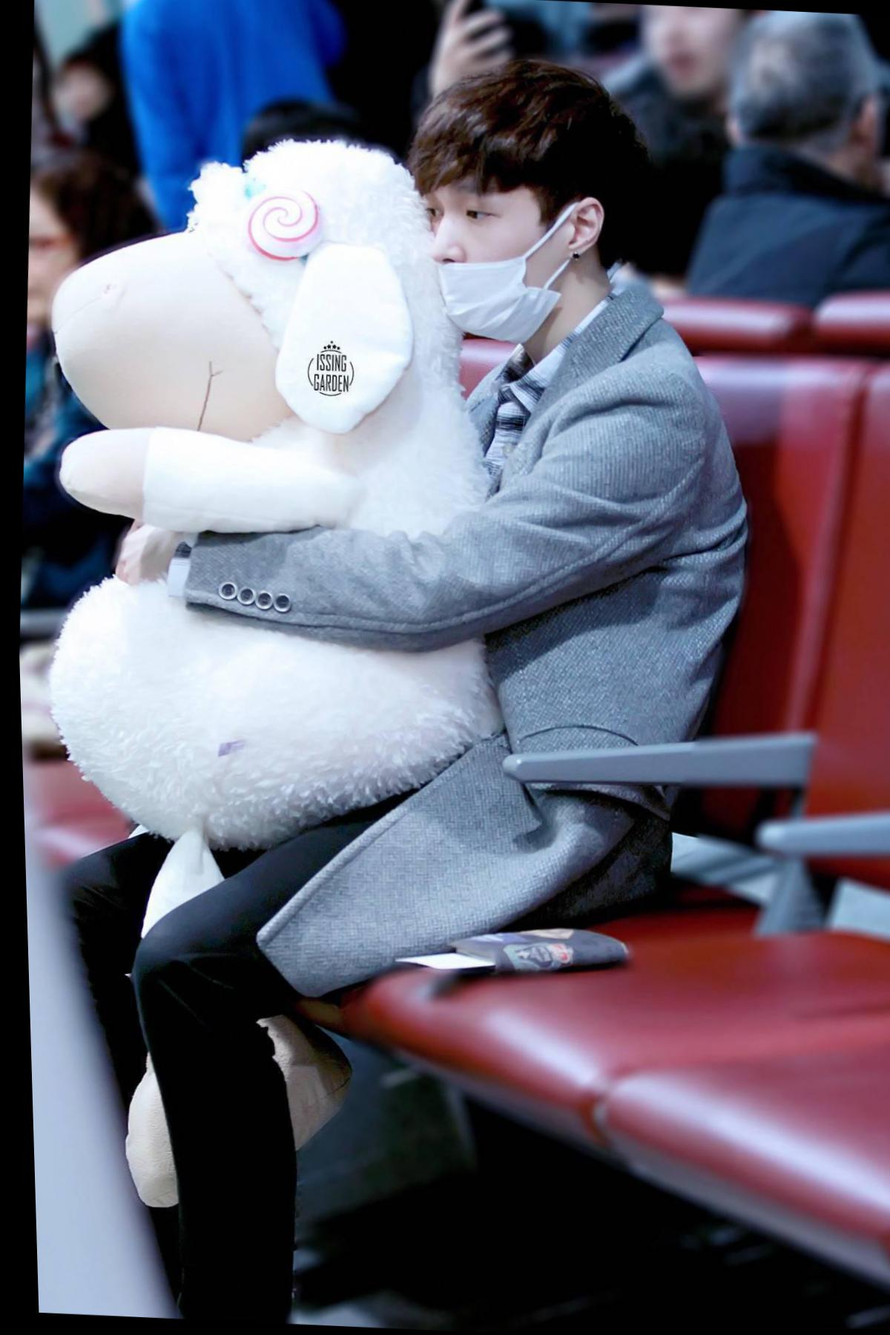WRONG: (418, 183, 547, 348)
